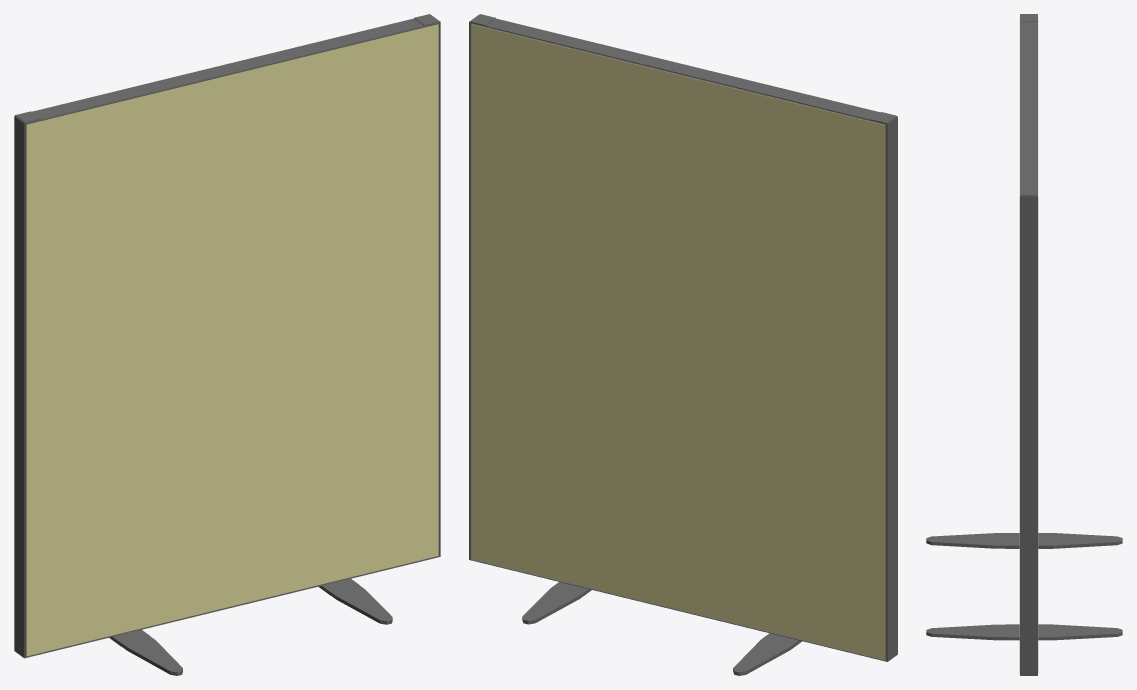
File: Full Panel Half Height.glb
3 views of the same model, side by side, from view 1: azimuth 30°, elevation 25°; view 2: azimuth 150°, elevation 25°; view 3: azimuth 270°, elevation 25° (orthographic). The views are drawn at different scales.
Parts seen in each view (by area): view 1: Standard 38 half-height, toggle_feet_center.012, toggle_feet_edge.010; view 2: toggle_back_panel.003, Standard 38 half-height, toggle_feet_center.012; view 3: Standard 38 half-height, toggle_feet_center.012, toggle_feet_edge.010, toggle_back_panel.003.
Boxes of the visible parts, box(x1,y1,x2,y2) form: Standard 38 half-height: box(14, 14, 440, 658); toggle_feet_center.012: box(109, 579, 386, 668); toggle_feet_edge.010: box(122, 586, 392, 675); toggle_back_panel.003: box(471, 24, 885, 659); Standard 38 half-height: box(469, 14, 897, 661); toggle_feet_center.012: box(522, 582, 801, 675); Standard 38 half-height: box(1019, 14, 1037, 675); toggle_feet_center.012: box(936, 533, 1122, 640); toggle_feet_edge.010: box(926, 533, 1004, 640); toggle_back_panel.003: box(1038, 17, 1038, 673).
Bounding box in the file's own units: 0.969 × 1.2 × 0.4418.
